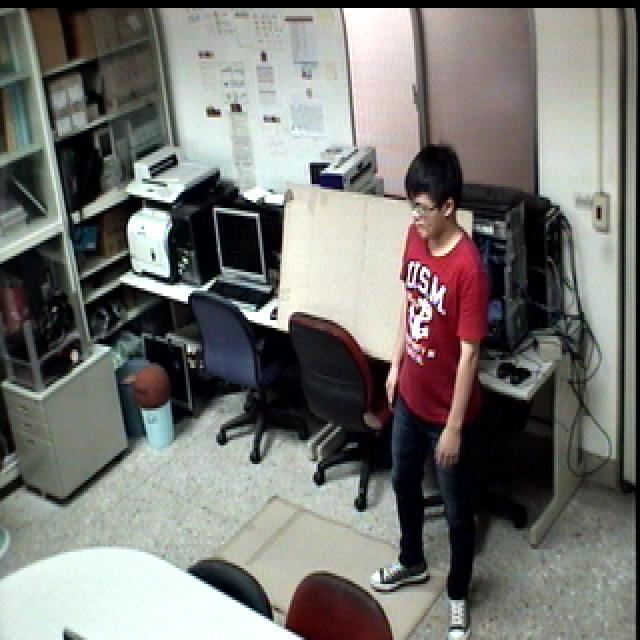stand: (374, 136, 496, 640)
